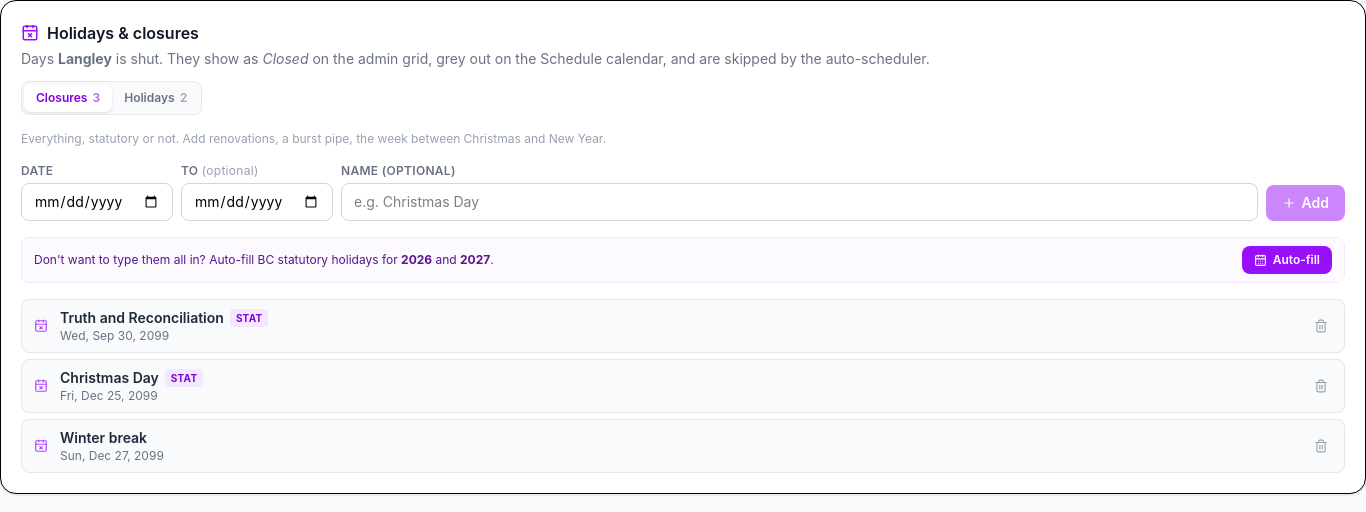
Test: holidays are a view of the closures, not a second list › Holidays hides the centre’s own closures
The image size is (1366, 512).
Click the button titled "Statutory holidays only": {"x": 156, "y": 98} [112, 84, 199, 112]
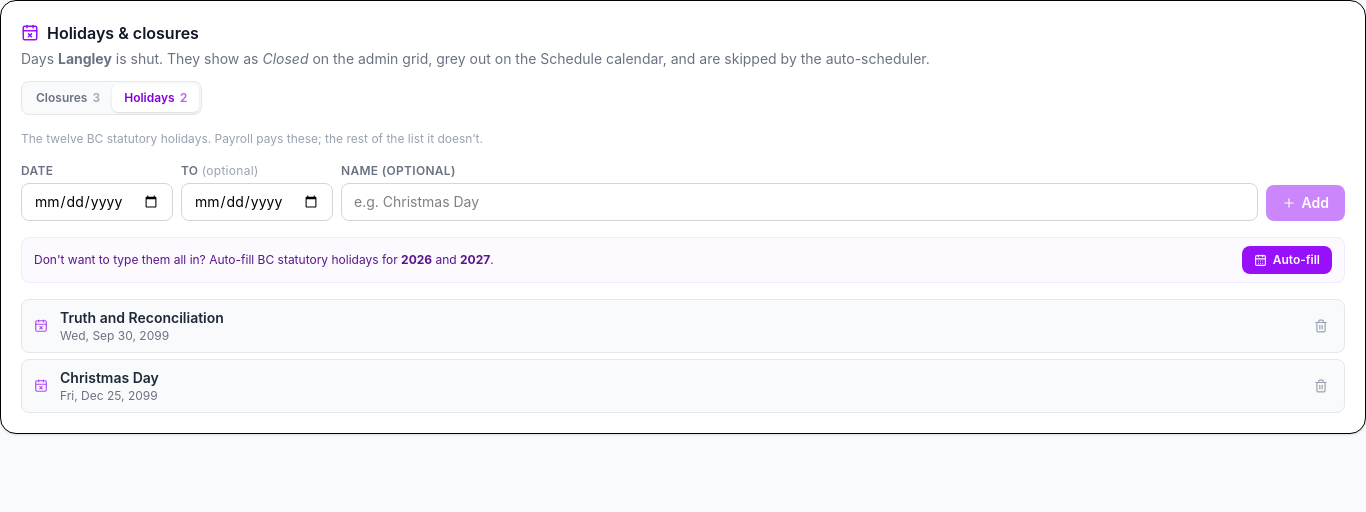
Expected: the text "Christmas Day" is shown, [60, 368, 159, 388]
Now the text "Winter break" is gone
